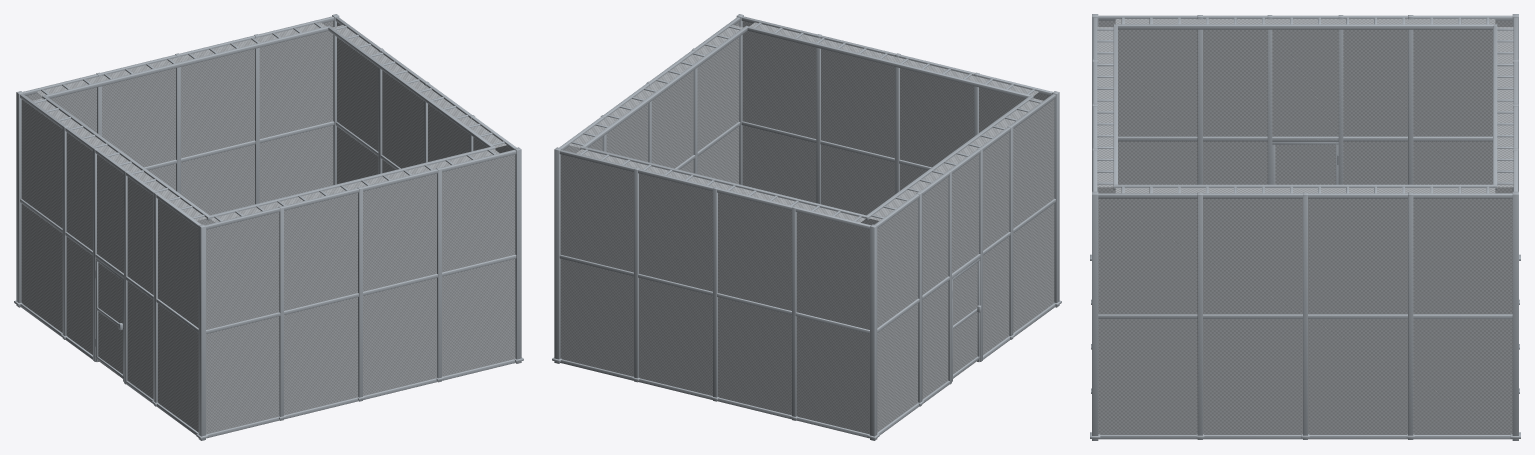
The model's file is steel_cage.glb.
3 views of the same model, side by side, from view 1: azimuth 30°, elevation 25°; view 2: azimuth 150°, elevation 25°; view 3: azimuth 270°, elevation 25° (orthographic). The views are drawn at different scales.
Parts seen in each view (by area): view 1: Wall_PZ, Wall_NZ, MeshLeft, MeshRight, Wall_PX, NX_frame, PZ_frame, TopFrame, PX_frame, NZ_frame, MeshAbove, DoorMesh (+5 smaller); view 2: Wall_NZ, Wall_PZ, MeshRight, MeshLeft, Wall_PX, NX_frame, NZ_frame, TopFrame, PX_frame, PZ_frame, MeshAbove, DoorMesh (+5 smaller); view 3: Wall_PX, MeshLeft, MeshRight, PX_frame, NX_frame, TopFrame, MeshAbove, DoorMesh, Lip_NZ, Lip_PZ, Lip_NX, Lip_PX (+3 smaller).
Boxes of the visible parts, x1,y1,x2,y2 form: Wall_PZ: (206, 154, 515, 434); Wall_NZ: (26, 21, 333, 225); MeshLeft: (21, 99, 92, 354); MeshRight: (127, 177, 198, 432); Wall_PX: (337, 22, 511, 184); NX_frame: (14, 91, 208, 440); PZ_frame: (205, 149, 516, 438); TopFrame: (34, 22, 504, 221); PX_frame: (332, 14, 523, 363); NZ_frame: (23, 16, 334, 204); MeshAbove: (97, 154, 123, 273); DoorMesh: (98, 263, 122, 378); Wall_NZ: (560, 154, 869, 434); Wall_PZ: (742, 21, 1049, 225); MeshRight: (983, 99, 1054, 354); MeshLeft: (877, 177, 948, 432); Wall_PX: (564, 22, 738, 184); NX_frame: (867, 91, 1061, 440); NZ_frame: (559, 149, 870, 438); TopFrame: (571, 22, 1041, 221); PX_frame: (552, 14, 743, 363); PZ_frame: (741, 16, 1052, 204); MeshAbove: (952, 154, 978, 273); DoorMesh: (953, 263, 977, 378); Wall_PX: (1098, 198, 1512, 434); MeshLeft: (1343, 20, 1512, 193); MeshRight: (1098, 20, 1267, 193); PX_frame: (1090, 191, 1520, 440); NX_frame: (1090, 14, 1520, 260); TopFrame: (1097, 17, 1513, 193); MeshAbove: (1272, 29, 1338, 136); DoorMesh: (1275, 144, 1335, 184); Lip_NZ: (1497, 27, 1513, 187); Lip_PZ: (1097, 27, 1113, 187); Lip_NX: (1115, 19, 1495, 24); Lip_PX: (1115, 188, 1495, 193).
Bounding box in the file's own units: 6.68 × 4.22 × 6.68.
Materials: 2 (2 with a texture image).
